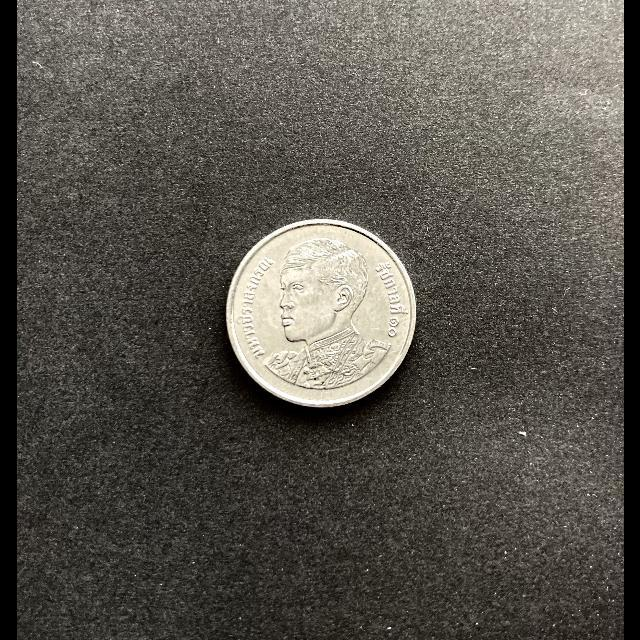1 Bath: (224, 218, 421, 411)
